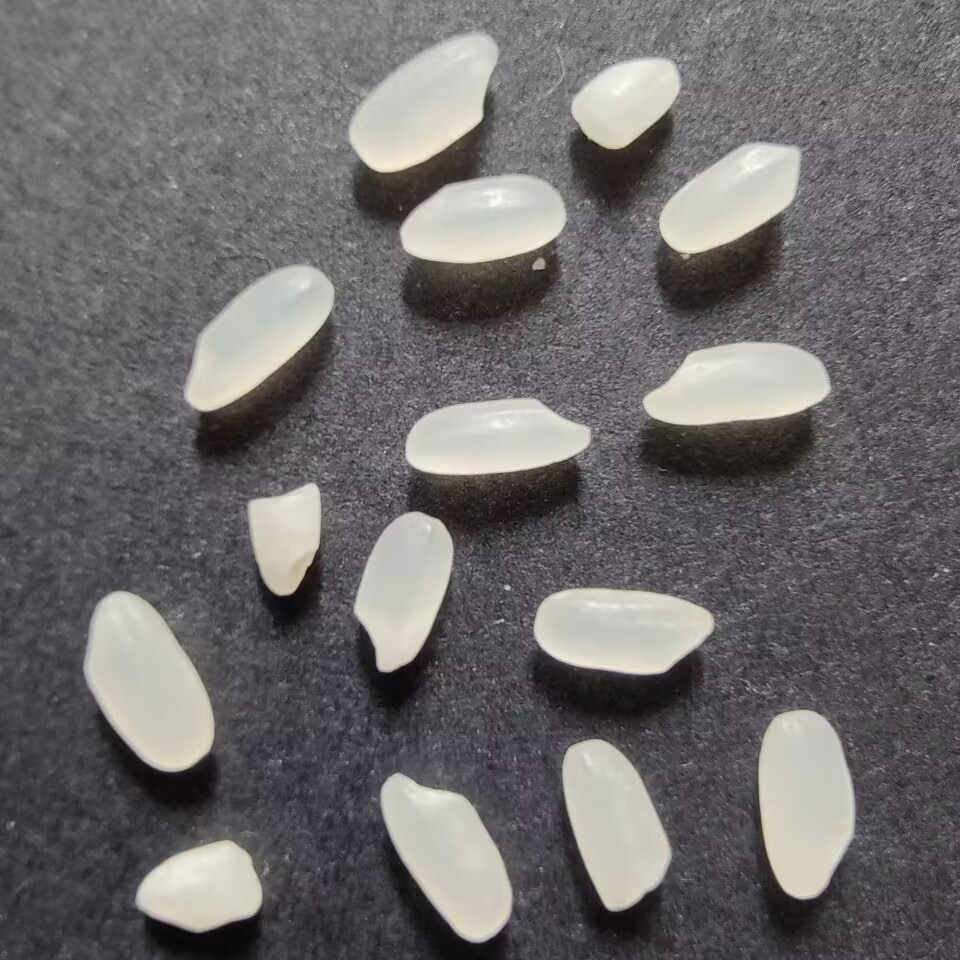broken: (131, 835, 266, 938), (241, 478, 327, 602), (569, 57, 682, 149)
rice: (76, 584, 220, 774), (376, 768, 517, 948), (340, 29, 505, 177), (177, 261, 338, 411), (753, 704, 861, 905), (560, 733, 677, 915), (527, 580, 720, 681), (638, 336, 836, 428), (654, 137, 807, 256), (346, 510, 455, 675), (393, 171, 572, 269), (396, 395, 598, 481)
